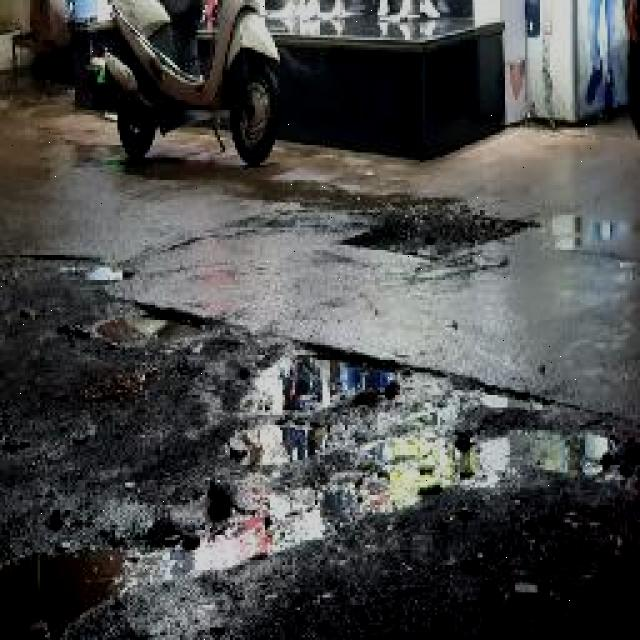stagnation: (237, 313, 640, 537)
